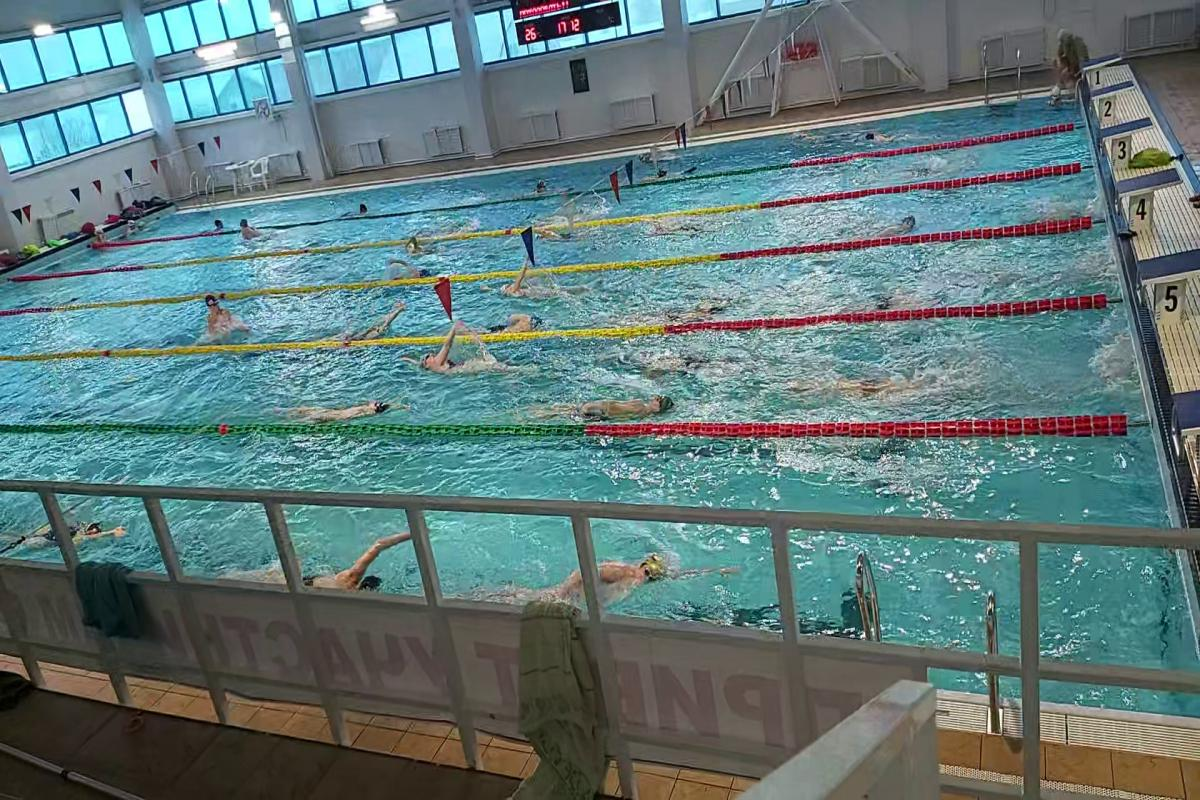swimmer: (462, 557, 690, 615), (224, 540, 409, 592), (543, 381, 679, 421), (9, 511, 136, 551), (405, 338, 519, 382), (285, 390, 404, 422), (485, 271, 561, 303), (334, 310, 400, 339), (196, 300, 248, 336), (482, 305, 546, 334), (378, 253, 437, 279), (886, 210, 924, 238), (238, 223, 264, 239)
